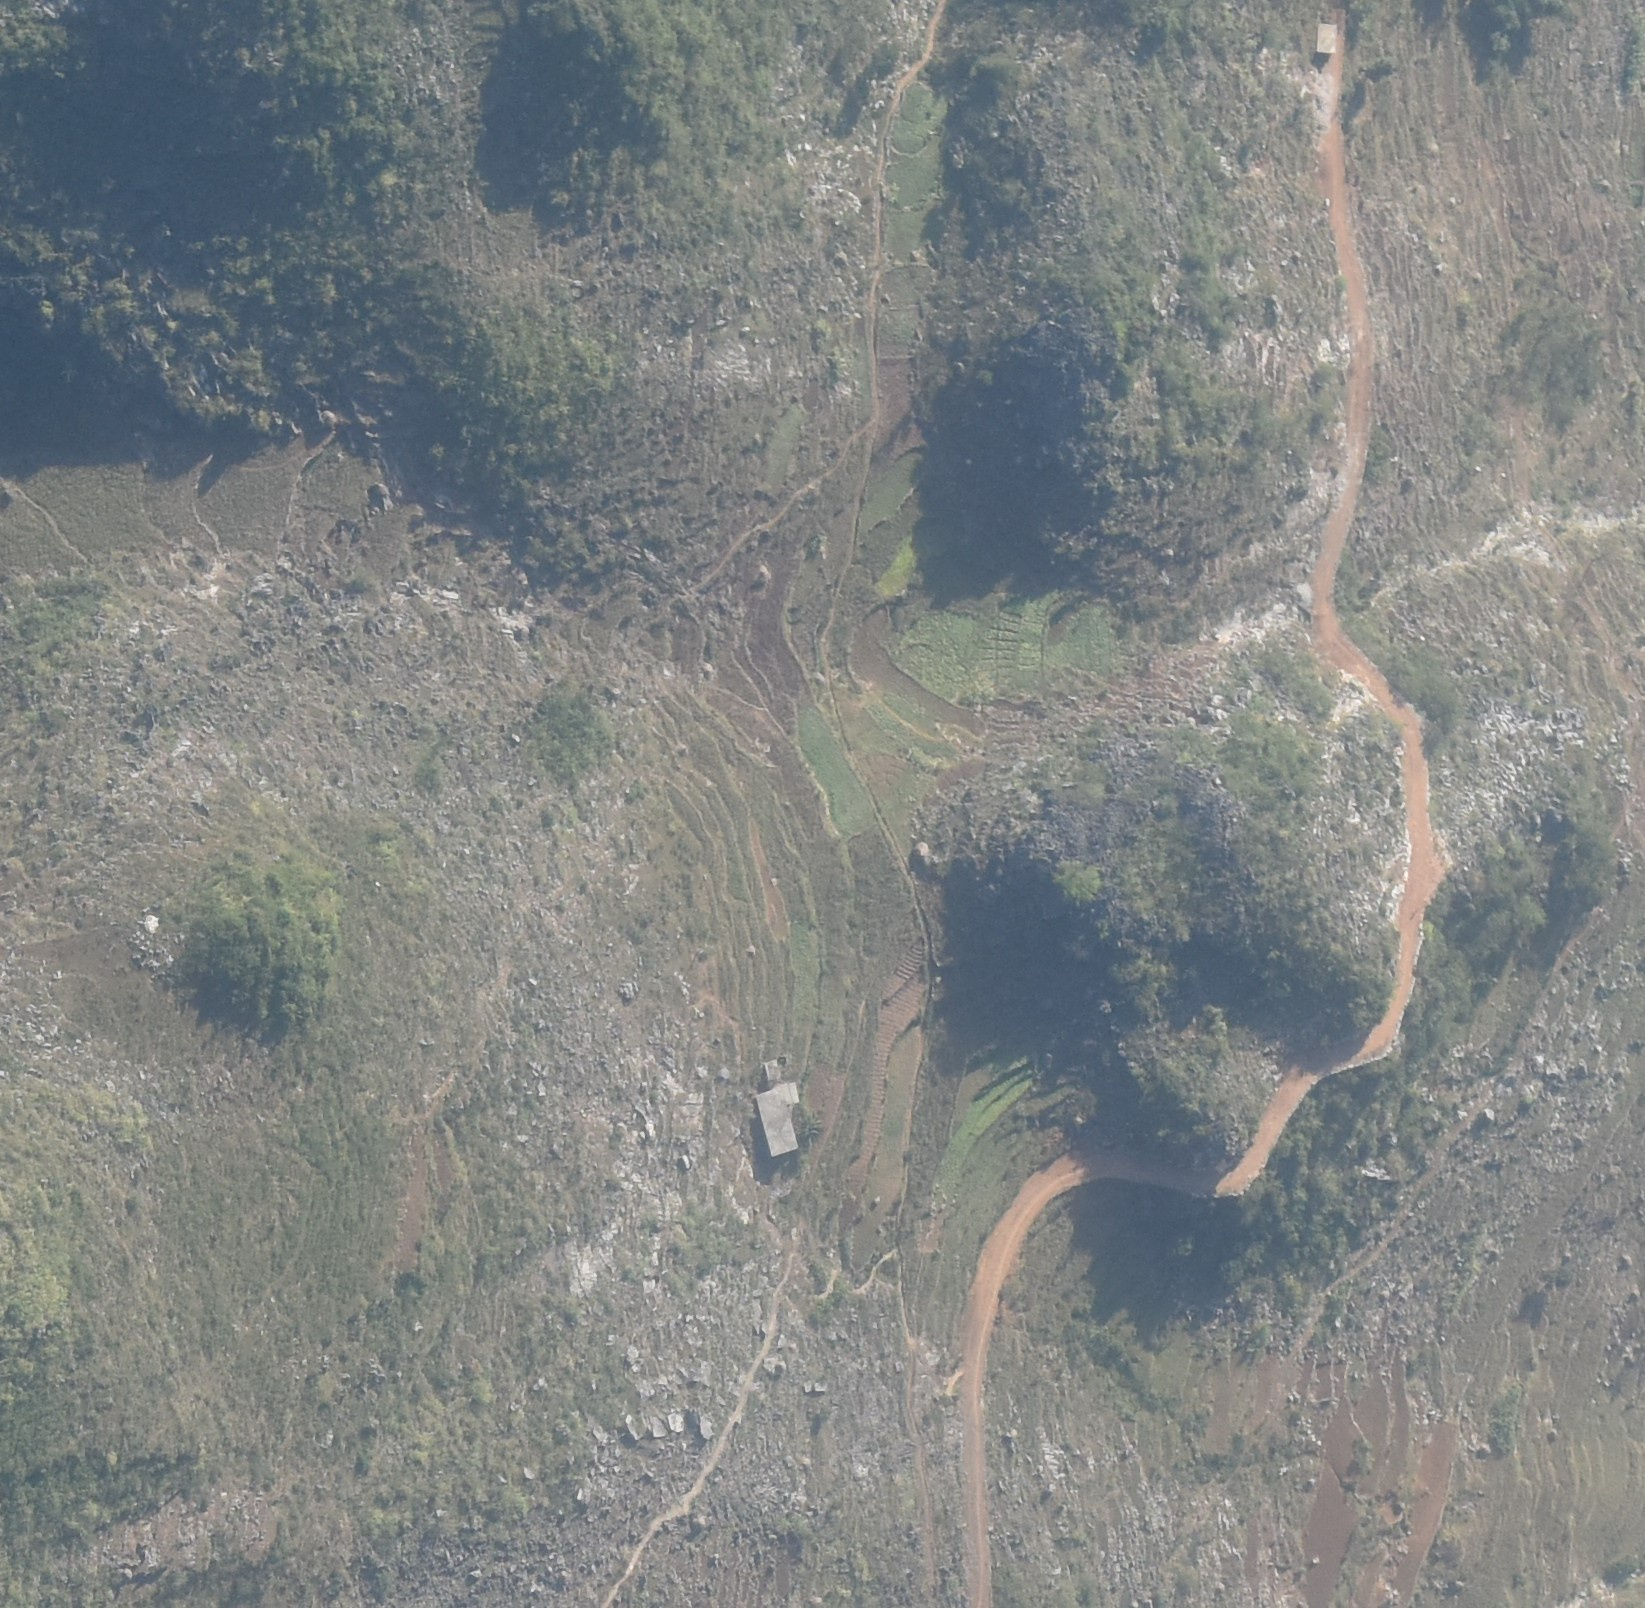building: (756, 1058, 798, 1155), (1317, 21, 1336, 52)
